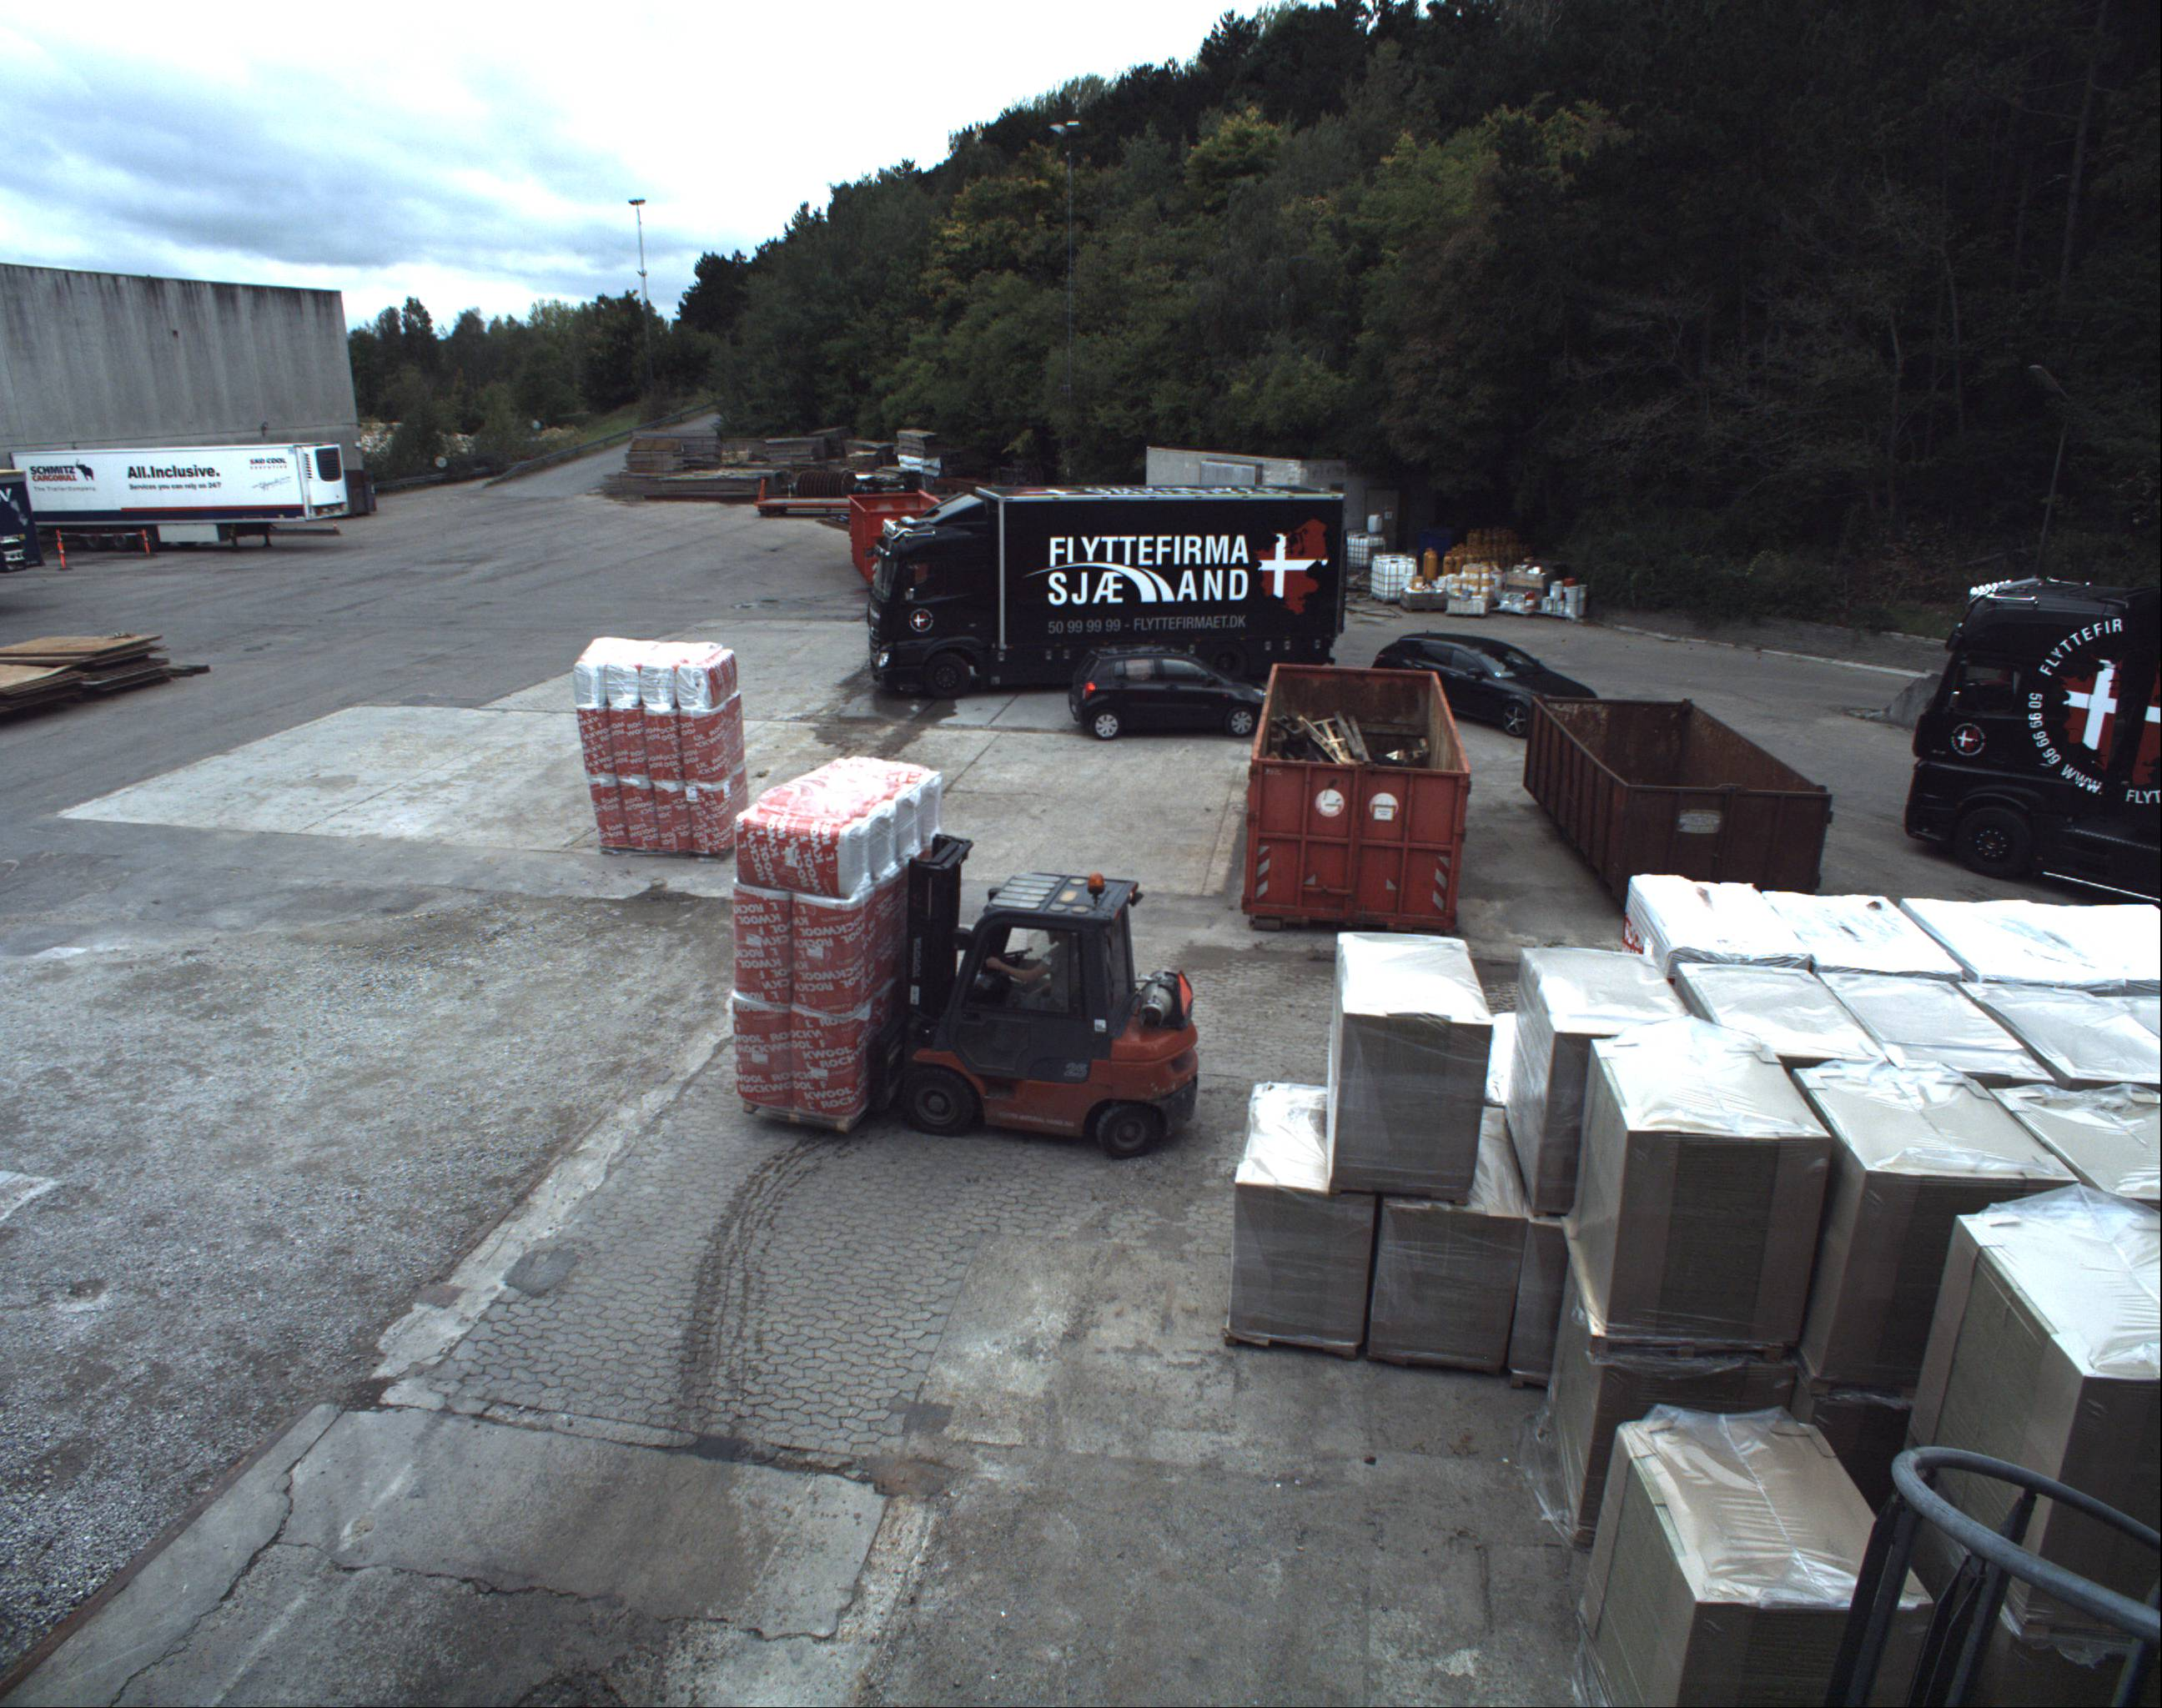rockwool_batts: (732, 746, 934, 1123), (579, 620, 753, 843)
